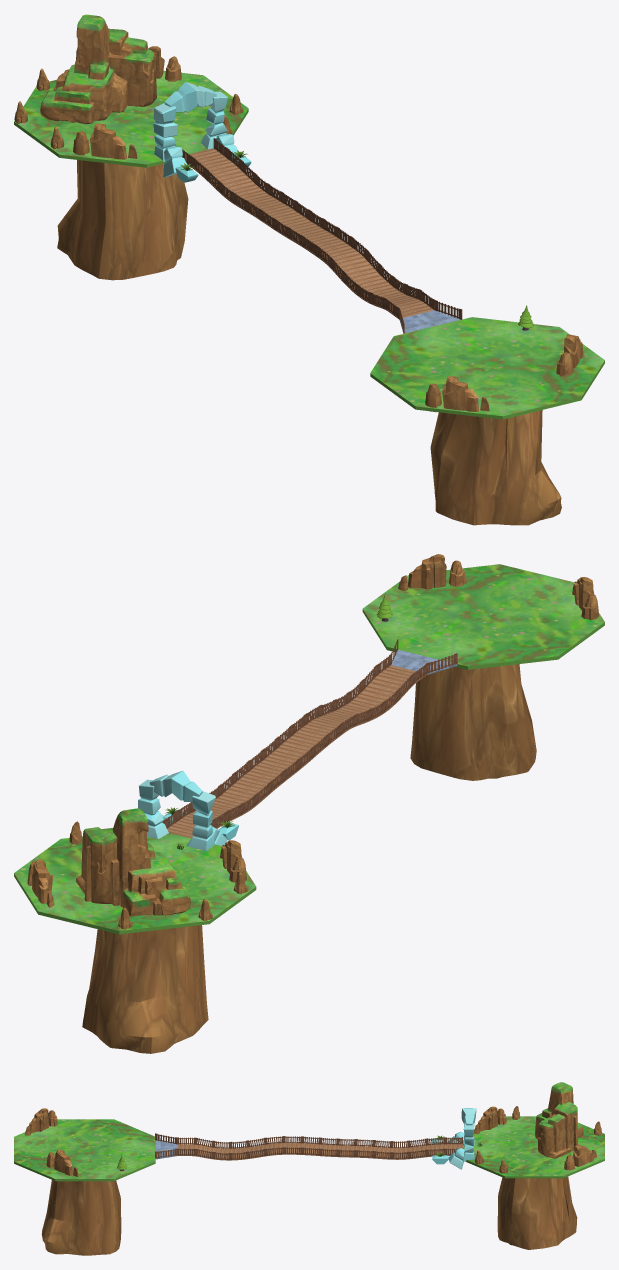
Rendered from envi 01A.fbx.
The picture shows the model from 3 angles, top to bottom: view 1: azimuth 30°, elevation 25°; view 2: azimuth 150°, elevation 25°; view 3: azimuth 270°, elevation 25°; orthographic projection. The views are drawn at different scales.
Parts seen in each view (by area): view 1: CASTLE_ON_THE_HILL__4_:pCube39_CASTLE_ON_THE_HILL__4_:blinn. (×2), _gltfNode_23.001, LP_Large_02_0, _gltfNode_23.002, Cube, Cube.002, arche, rocks_rocks_0.001, rocks_rocks_0.014, rocks_rocks_0.002, Cube.001; view 2: CASTLE_ON_THE_HILL__4_:pCube39_CASTLE_ON_THE_HILL__4_:blinn. (×2), _gltfNode_23.001, _gltfNode_23.002, LP_Large_02_0, Cube, Cube.002, arche, rocks_rocks_0.002, rocks_rocks_0.003, rocks_rocks_0.001, rocks_rocks_0.014, Cube.001; view 3: CASTLE_ON_THE_HILL__4_:pCube39_CASTLE_ON_THE_HILL__4_:blinn. (×2), _gltfNode_23.001, _gltfNode_23.002, Cube.002, Cube, LP_Large_02_0, arche, rocks_rocks_0.001, rocks_rocks_0.014, rocks_rocks_0.003, rocks_rocks_0.002, Cube.001.
Boxes of the visible parts, box(x1,y1,x2,y2) form: CASTLE_ON_THE_HILL__4_:pCube39_CASTLE_ON_THE_HILL__4_:blinn. (×2): box(57, 160, 561, 525); _gltfNode_23.001: box(370, 317, 604, 419); LP_Large_02_0: box(40, 14, 156, 124); _gltfNode_23.002: box(14, 70, 248, 167); Cube: box(185, 148, 433, 319); Cube.002: box(179, 138, 462, 333); arche: box(153, 82, 228, 161); rocks_rocks_0.001: box(425, 376, 489, 416); rocks_rocks_0.014: box(73, 123, 137, 159); rocks_rocks_0.002: box(556, 334, 583, 376); Cube.001: box(399, 310, 460, 333); CASTLE_ON_THE_HILL__4_:pCube39_CASTLE_ON_THE_HILL__4_:blinn. (×2): box(82, 664, 536, 1053); _gltfNode_23.001: box(362, 564, 604, 669); _gltfNode_23.002: box(14, 833, 256, 934); LP_Large_02_0: box(76, 808, 190, 916); Cube: box(167, 665, 427, 838); Cube.002: box(162, 639, 457, 828); arche: box(138, 770, 215, 850); rocks_rocks_0.002: box(398, 554, 466, 590); rocks_rocks_0.003: box(27, 859, 54, 907); rocks_rocks_0.001: box(572, 577, 599, 620); rocks_rocks_0.014: box(220, 840, 246, 882); Cube.001: box(391, 649, 457, 674); CASTLE_ON_THE_HILL__4_:pCube39_CASTLE_ON_THE_HILL__4_:blinn. (×2): box(41, 1176, 577, 1255); _gltfNode_23.001: box(14, 1119, 155, 1181); _gltfNode_23.002: box(463, 1116, 604, 1178); Cube.002: box(155, 1133, 462, 1159); Cube: box(177, 1143, 463, 1160); LP_Large_02_0: box(535, 1082, 583, 1158); arche: box(461, 1108, 476, 1161); rocks_rocks_0.001: box(25, 1108, 57, 1135); rocks_rocks_0.014: box(473, 1106, 506, 1133); rocks_rocks_0.003: box(564, 1144, 596, 1170); rocks_rocks_0.002: box(46, 1149, 78, 1176); Cube.001: box(155, 1140, 177, 1159).
Size of the model in its own units: 2847 by 3029 by 11315.
Materials: 8 (8 with a texture image).
